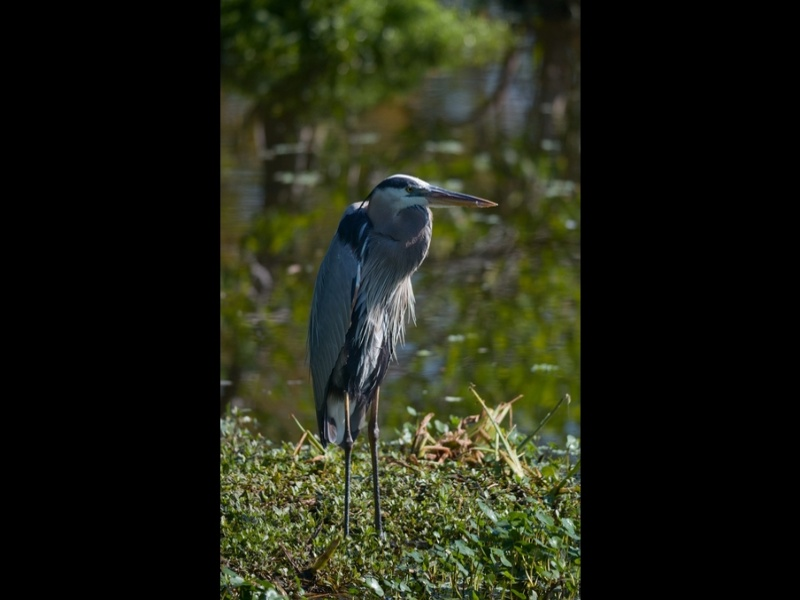heron: (306, 170, 505, 551)
